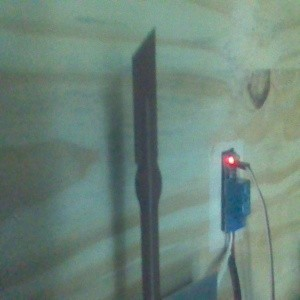cutter: (130, 24, 164, 300)
